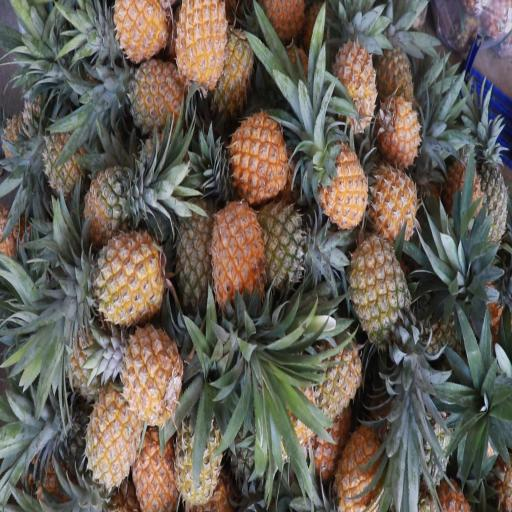------------------------------: (343, 231, 416, 356), (172, 398, 226, 511), (84, 166, 147, 250)
Pineapple - v8 v1: (82, 229, 170, 330), (208, 181, 266, 323), (118, 320, 188, 432), (112, 48, 185, 142), (83, 377, 143, 491), (220, 105, 288, 202), (332, 23, 382, 146), (335, 416, 394, 512), (314, 124, 369, 223), (173, 0, 229, 88), (368, 166, 420, 249), (374, 90, 422, 174), (114, 0, 168, 68)
